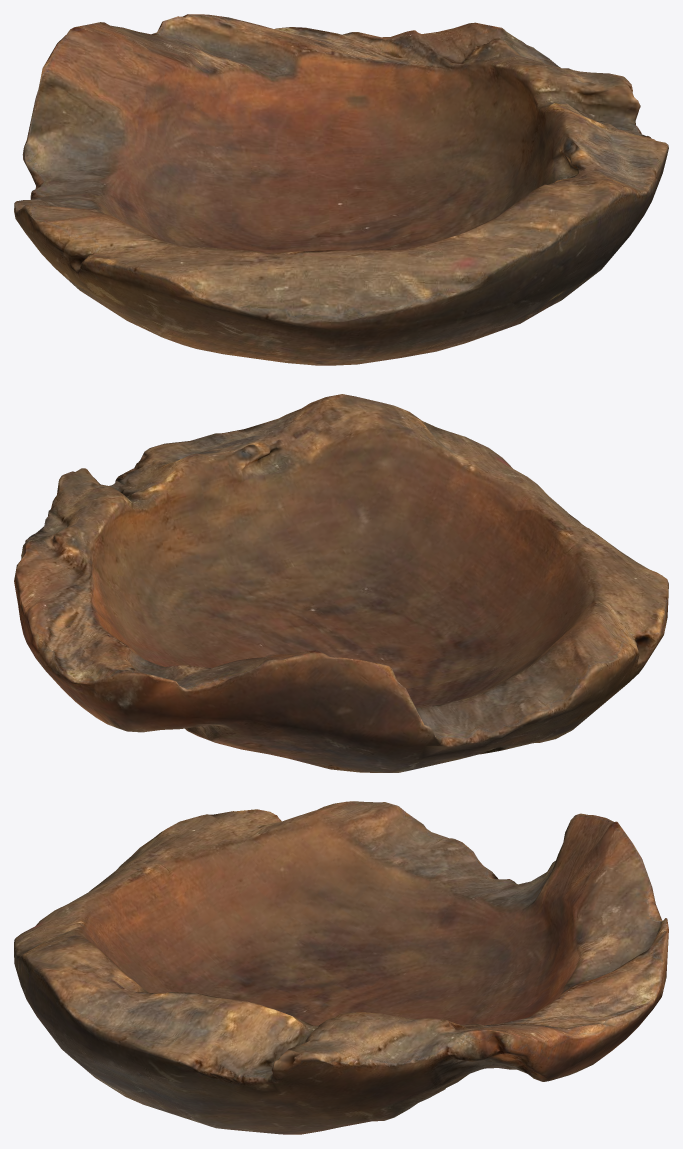
The model's file is wooden_bowl_01.glb.
3 renders of one model, top to bottom at view 1: azimuth 30°, elevation 25°; view 2: azimuth 150°, elevation 25°; view 3: azimuth 270°, elevation 25°, orthographic. The views are drawn at different scales.
Visible parts, largest first — view 1: wooden_bowl_01; view 2: wooden_bowl_01; view 3: wooden_bowl_01.
Part boxes in pixels (bbox=[...]): wooden_bowl_01: bbox=[14, 14, 668, 365]; wooden_bowl_01: bbox=[14, 394, 668, 772]; wooden_bowl_01: bbox=[14, 801, 668, 1134].
Bounding box in the file's own units: 0.313 × 0.0937 × 0.3089.
1 material, 1 textured.
